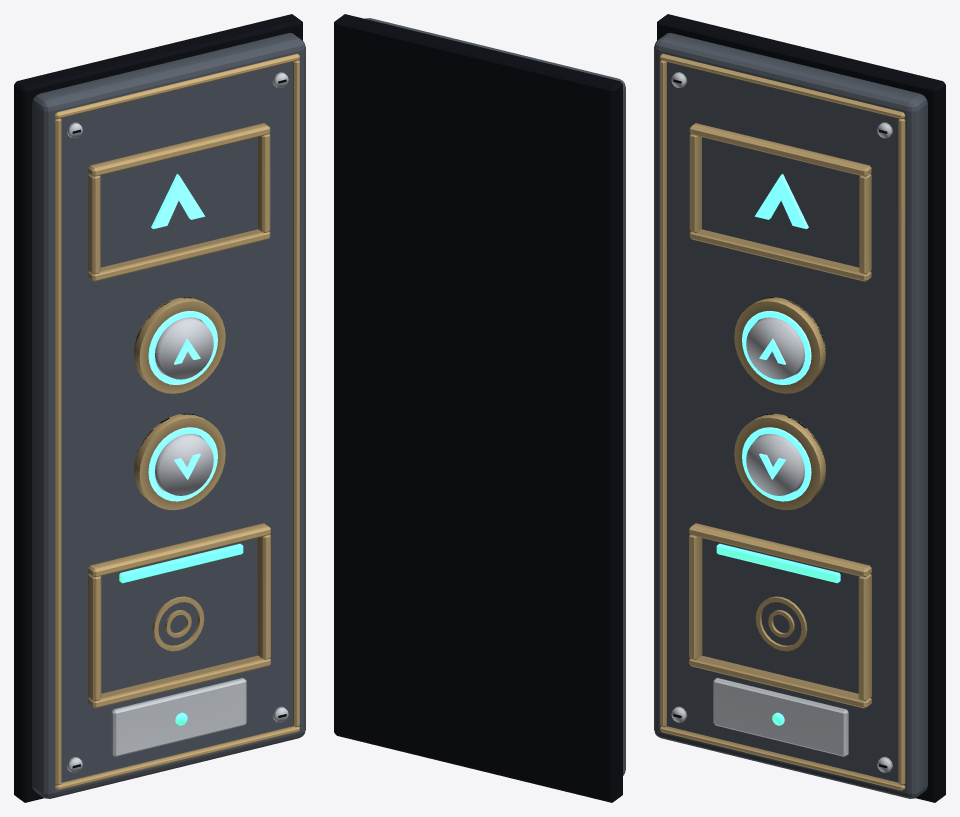
File: prop_elevator_panel_fixed.glb
3 views of the same model, side by side, from view 1: azimuth 30°, elevation 25°; view 2: azimuth 150°, elevation 25°; view 3: azimuth 330°, elevation 25° (orthographic).
Parts seen in each view (by area): view 1: ElevatorPanel; view 2: ElevatorPanel; view 3: ElevatorPanel.
Part boxes in pixels (left/top/right/bottom): ElevatorPanel: left=14, top=14, right=305, bottom=802; ElevatorPanel: left=334, top=14, right=625, bottom=802; ElevatorPanel: left=654, top=14, right=945, bottom=802.
Size of the model in its own units: 0.202 by 0.492 by 0.0437.
